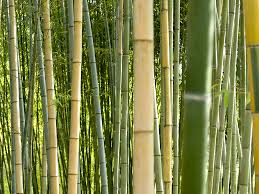bamboo: (6, 5, 256, 190)
